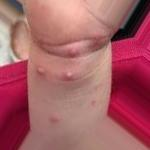Ants: (87, 31, 112, 52), (47, 110, 62, 125), (62, 69, 76, 80), (68, 46, 81, 57), (34, 66, 45, 76), (91, 99, 95, 105)
